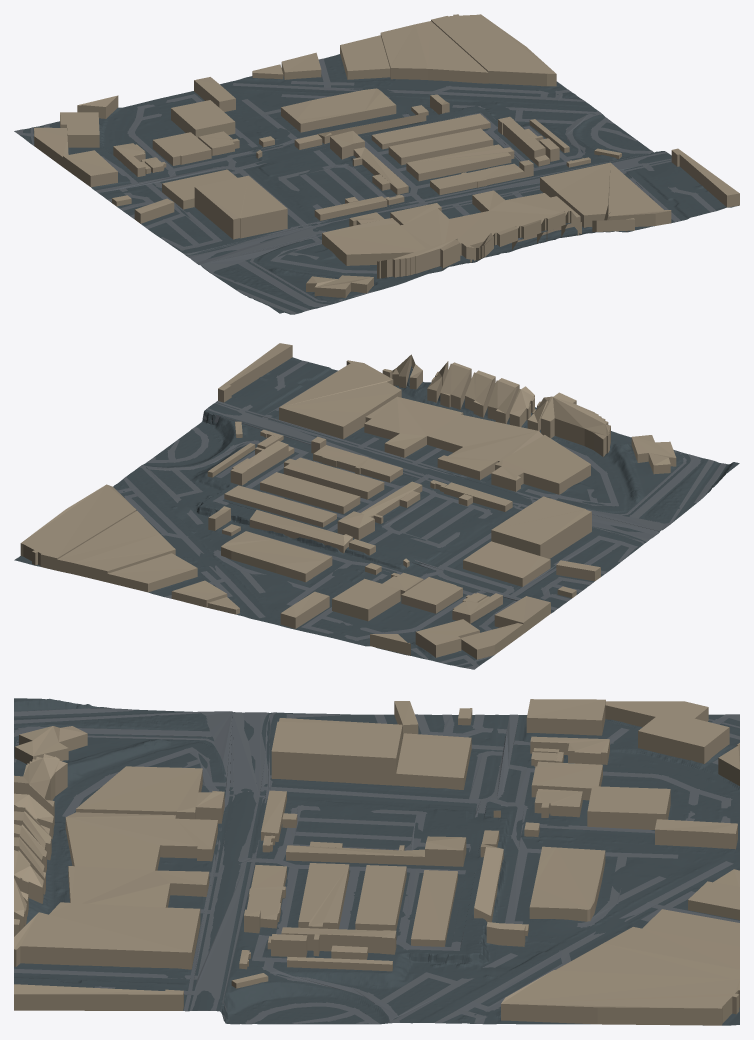
File: epsg26910-1439-10880.lod0.glb
The picture shows the model from 3 angles, top to bottom: view 1: azimuth 30°, elevation 25°; view 2: azimuth 150°, elevation 25°; view 3: azimuth 270°, elevation 25°; orthographic projection. The views are drawn at different scales.
Parts seen in each view (by area): view 1: epsg26910-1439-10880-lod0; view 2: epsg26910-1439-10880-lod0; view 3: epsg26910-1439-10880-lod0.
Boxes of the visible parts, bbox=[...] form: epsg26910-1439-10880-lod0: bbox=[14, 14, 739, 314]; epsg26910-1439-10880-lod0: bbox=[14, 343, 739, 669]; epsg26910-1439-10880-lod0: bbox=[14, 698, 739, 1025].
Bounding box in the file's own units: 384 × 37.61 × 384.
